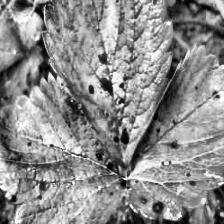Leaf Spot: (40, 0, 174, 172), (0, 71, 125, 224), (124, 42, 224, 221), (0, 44, 45, 117), (0, 0, 25, 81)
